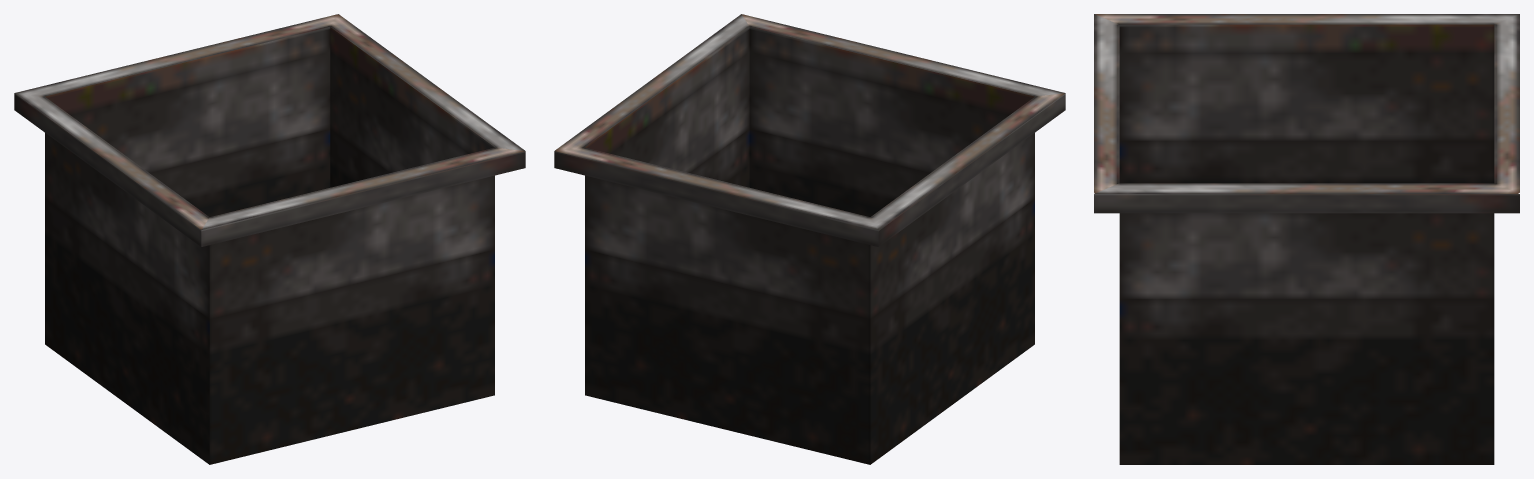
The model's file is Poly_SF_Outside_B_Hole_01.obj.
3 renders of one model, left to right at view 1: azimuth 30°, elevation 25°; view 2: azimuth 150°, elevation 25°; view 3: azimuth 270°, elevation 25°, orthographic. The views are drawn at different scales.
Parts seen in each view (by area): view 1: Cube; view 2: Cube; view 3: Cube.
Part boxes in pixels (x1,y1,x2,y2): Cube: (14,14,525,464); Cube: (554,14,1065,464); Cube: (1094,14,1519,464).
Size of the model in its own units: 1 by 0.73 by 1.
Materials: 1 (1 with a texture image).
